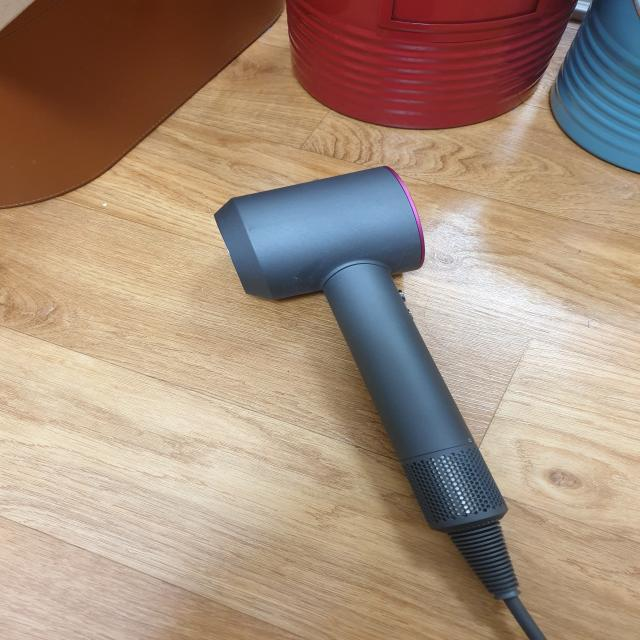dryer: (212, 163, 524, 602)
